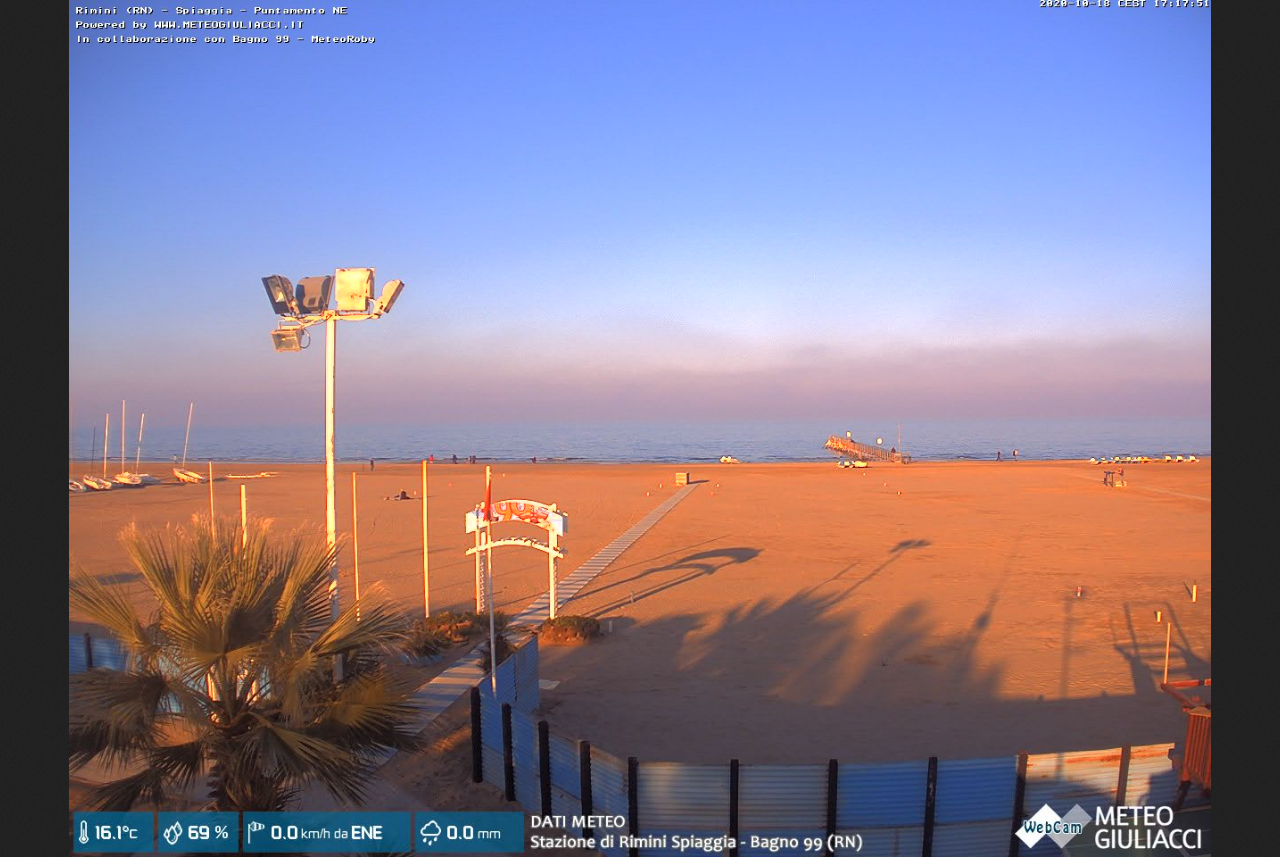no: (481, 464, 495, 528)
